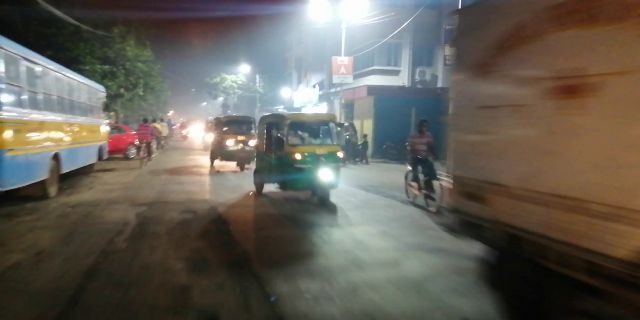Autorickshaw: (255, 106, 349, 211), (213, 112, 251, 175)
Bus: (1, 33, 115, 201)
